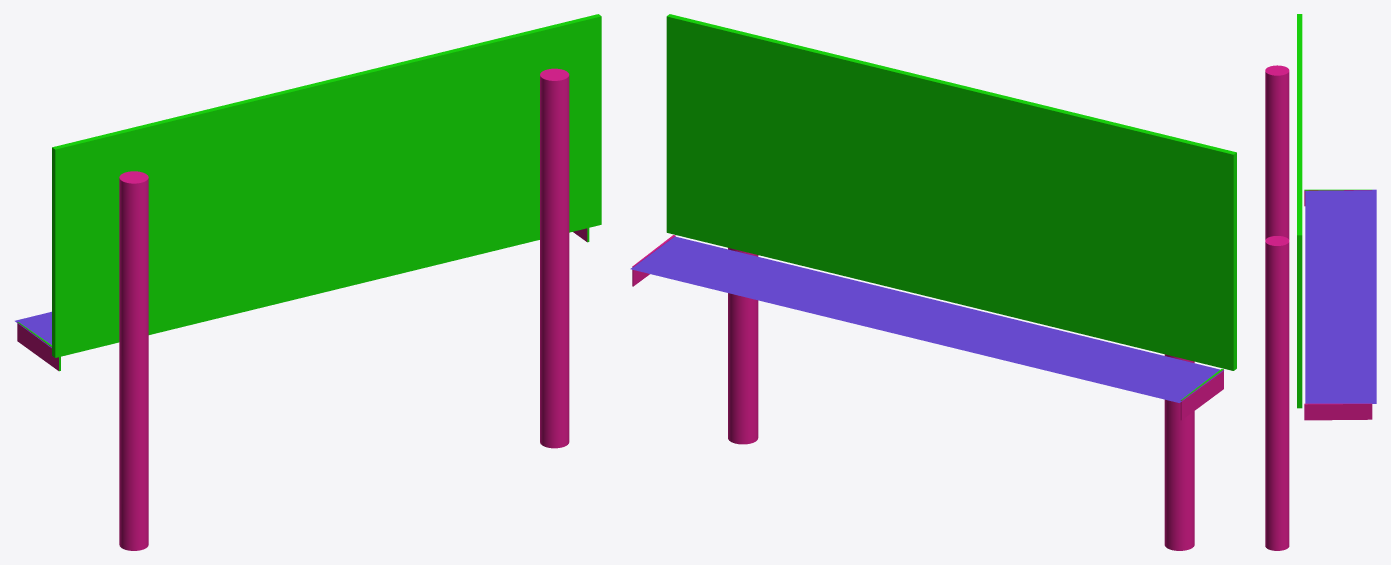
The model's file is billboard.fbx.
3 renders of one model, left to right at view 1: azimuth 30°, elevation 25°; view 2: azimuth 150°, elevation 25°; view 3: azimuth 270°, elevation 25°, orthographic. The views are drawn at different scales.
Visible parts, largest first — view 1: Billboard; view 2: Billboard; view 3: Billboard.
Boxes of the visible parts, x1,y1,x2,y2 form: Billboard: (15, 14, 601, 550); Billboard: (630, 14, 1236, 550); Billboard: (1265, 14, 1376, 550).
Bounding box in the file's own units: 2010 × 1416 × 428.
